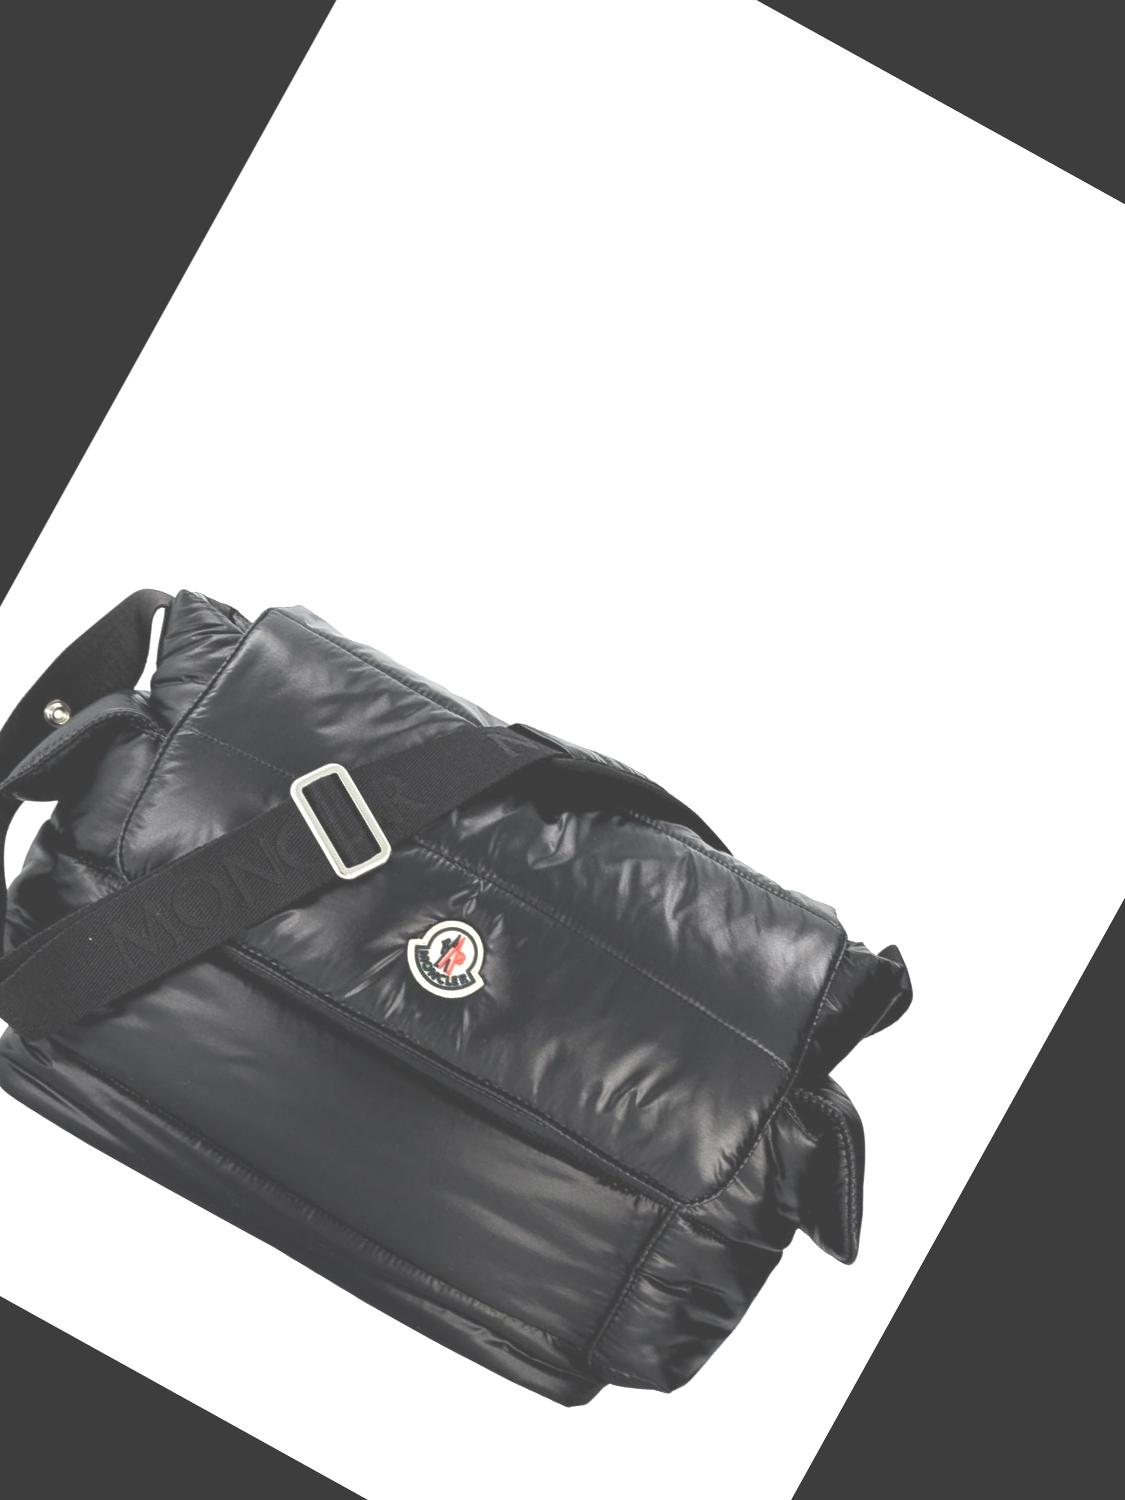MONCLER: (391, 902, 505, 1013)
